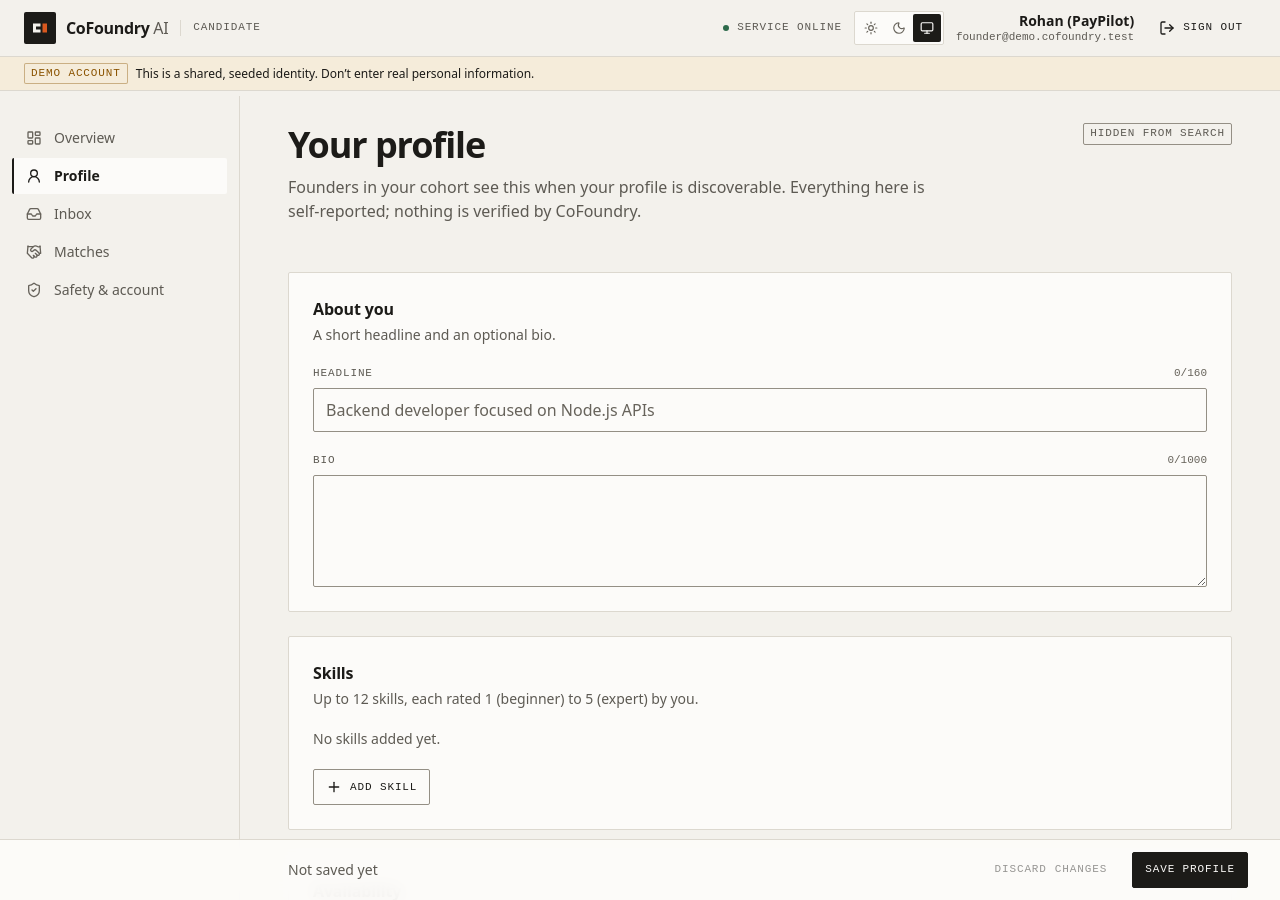
Test case: candidate profile page › creates a first profile with expectedRevision 0 and CSRF, then reports it saved
Type "Node developer" into the field labelled "Headline".
click(760, 410); type("Node developer")  # box [313,388,1207,432]
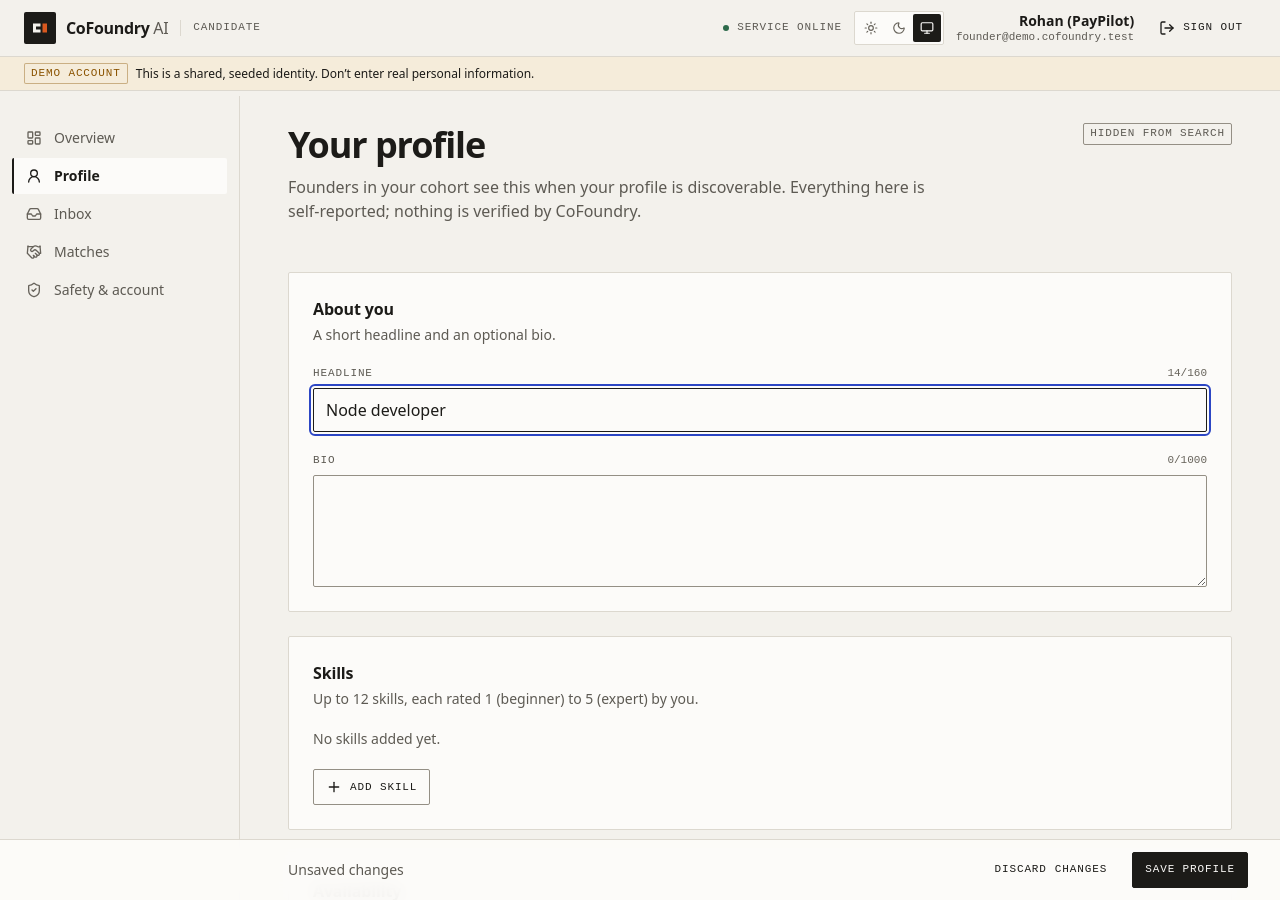
Click the button "Add skill".
click(372, 787)  # box [313,769,430,805]
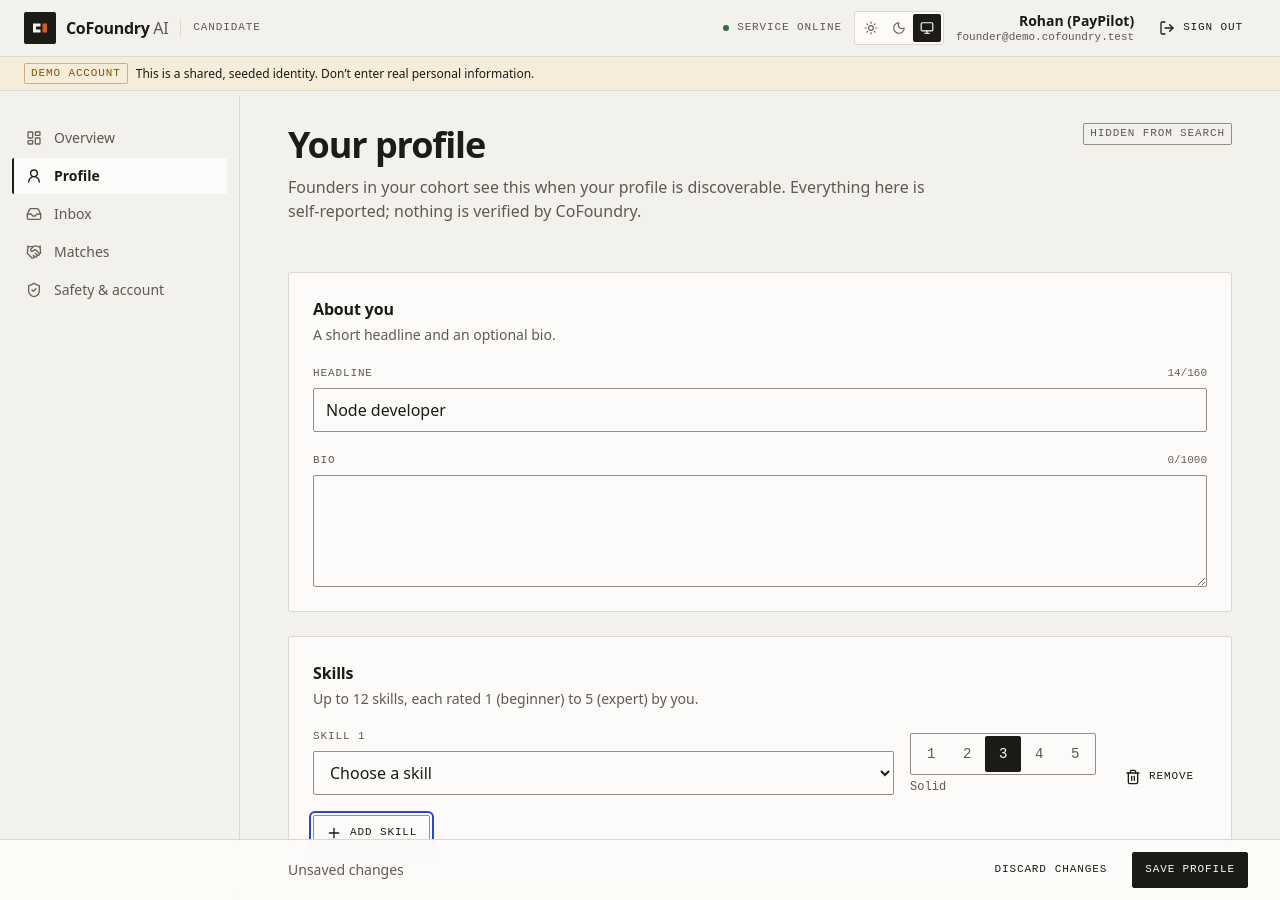
Select "MongoDB" in the dropdown labelled "Skill 1" at (604,773), box [313,751,894,795]
Click the radio button named "4 — Strong".
click(1039, 754)  # box [1035,746,1043,762]
(page scrolled)
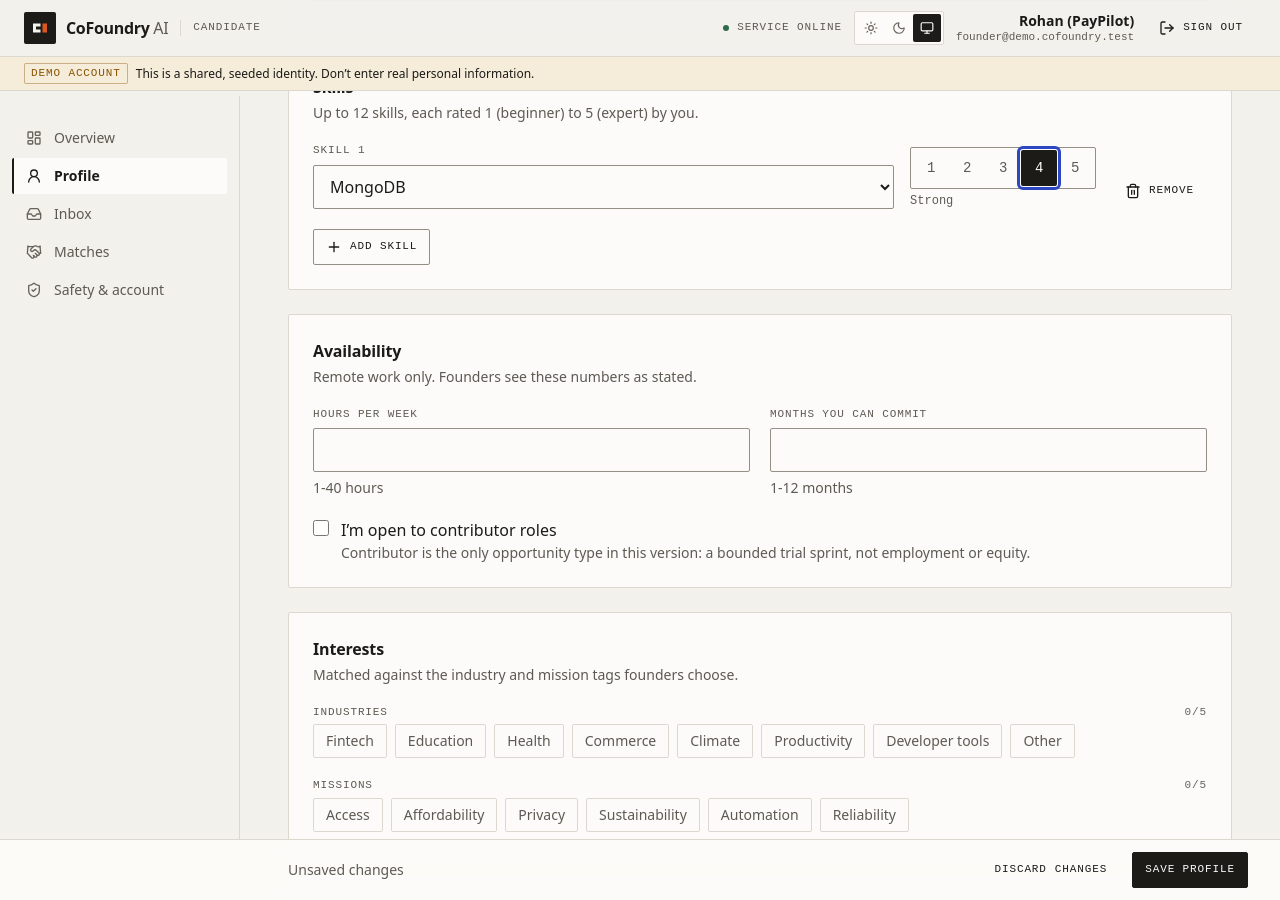
Type "12" into the number field labelled "Hours per week".
click(532, 450); type("12")  # box [313,428,750,472]
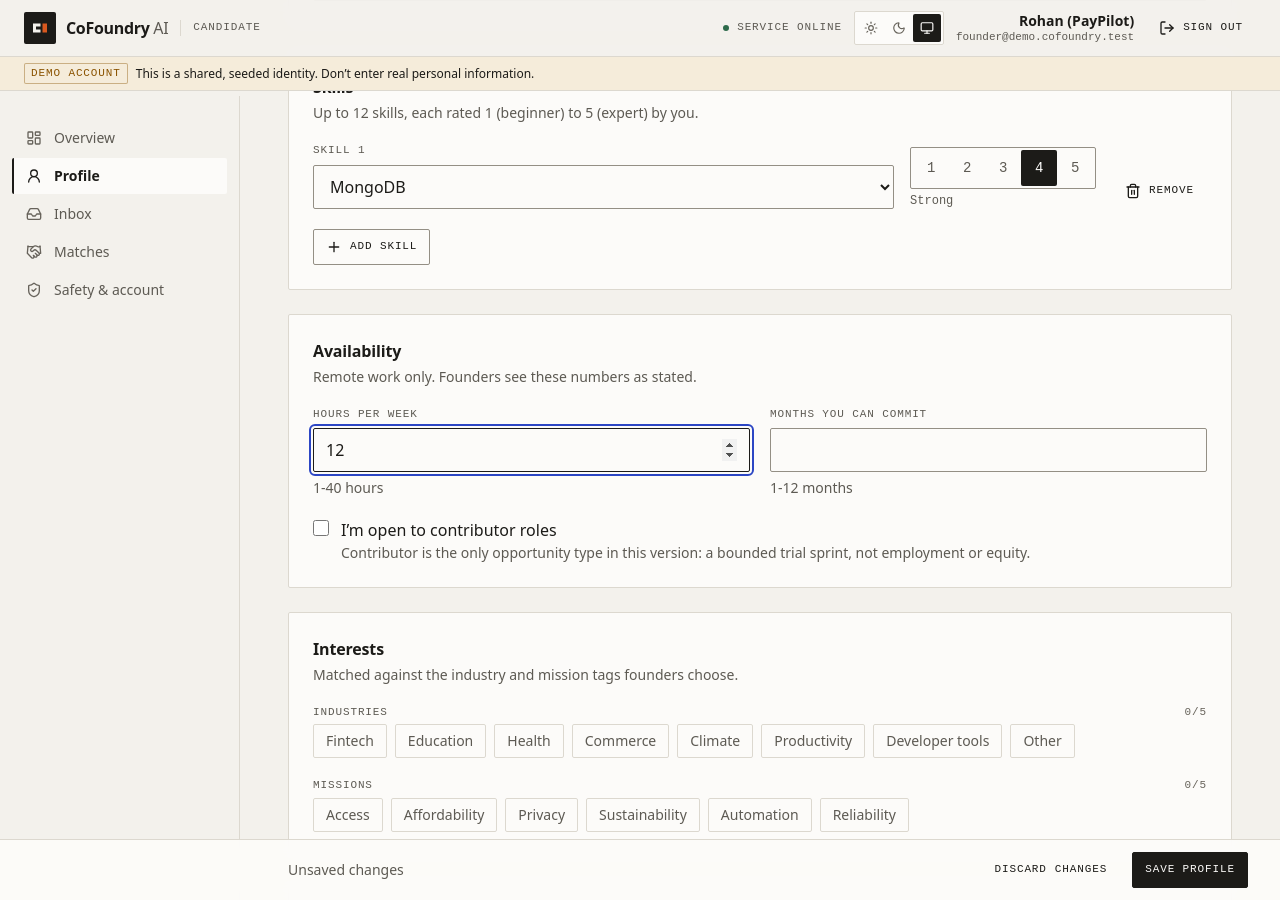
Click the checkbox labelled "Fintech".
click(350, 741)  # box [313,724,387,758]
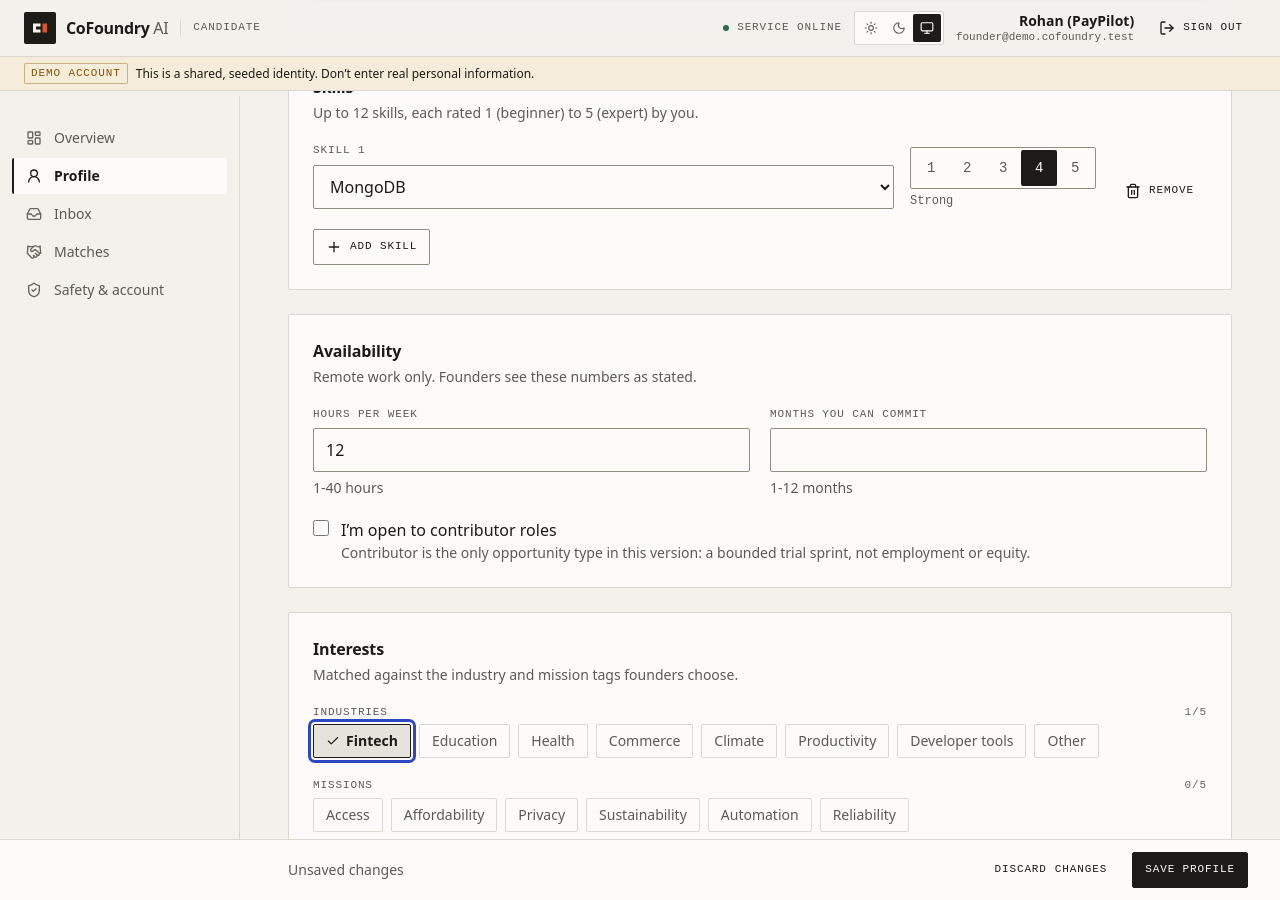
Click the button "Save profile".
click(1190, 870)  # box [1132,852,1248,888]
(page scrolled)
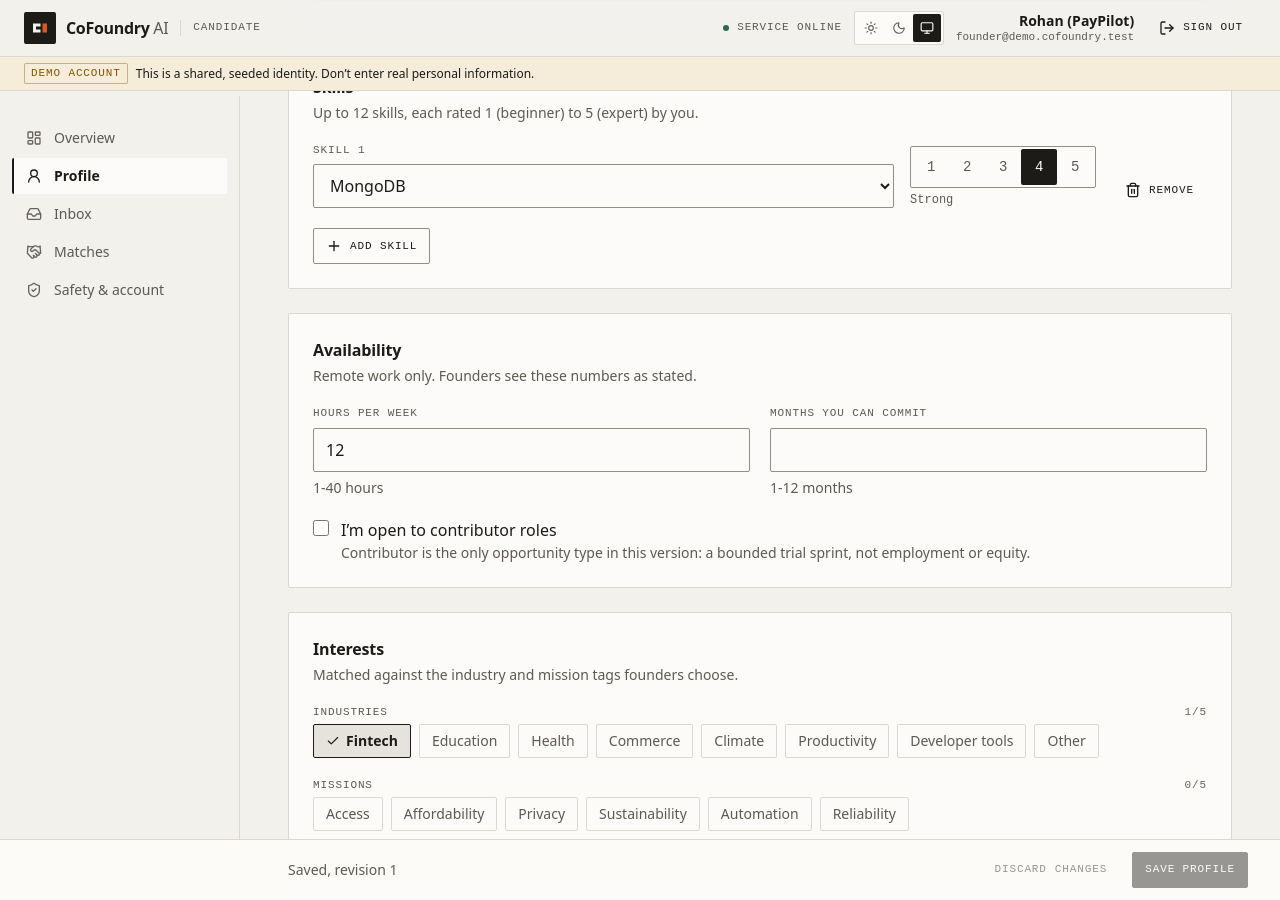
Check: the text "Saved, revision 1" is shown, box [288,860,398,880]
